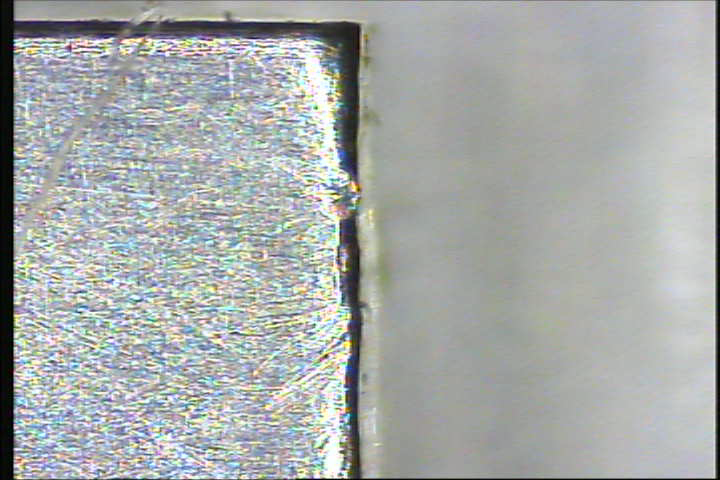edge: (336, 10, 375, 477)
